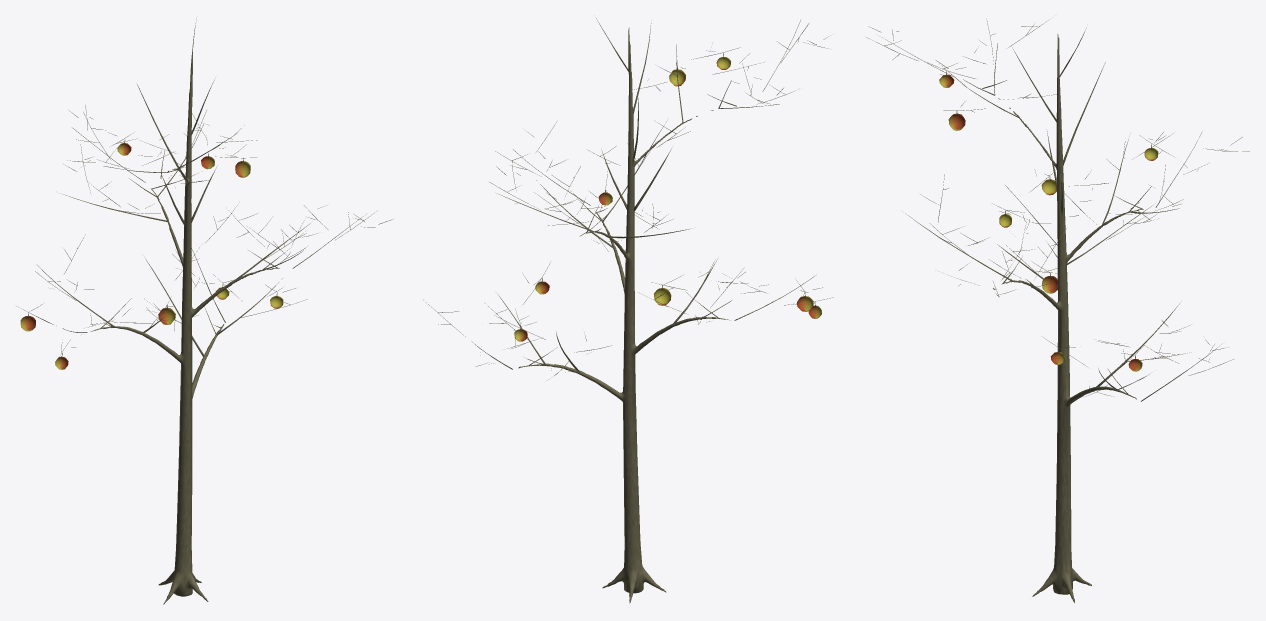
File: jablon_4.glb
The picture shows the model from 3 angles, left to right: view 1: azimuth 30°, elevation 25°; view 2: azimuth 150°, elevation 25°; view 3: azimuth 270°, elevation 25°; orthographic projection. The views are drawn at different scales.
Visible parts, largest first — view 1: 01_Young_trunk_and_branches.001, 02_Young_twigs.001, 05_Apples.001; view 2: 01_Young_trunk_and_branches.001, 02_Young_twigs.001, 05_Apples.001; view 3: 01_Young_trunk_and_branches.001, 02_Young_twigs.001, 05_Apples.001.
Boxes of the visible parts, x1,y1,x2,y2 form: 01_Young_trunk_and_branches.001: (81,49,279,604); 02_Young_twigs.001: (19,19,392,356); 05_Apples.001: (20,143,283,369); 01_Young_trunk_and_branches.001: (518,27,729,603); 02_Young_twigs.001: (423,18,833,379); 05_Apples.001: (514,57,821,341); 01_Young_trunk_and_branches.001: (998,34,1143,602); 02_Young_twigs.001: (866,19,1249,401); 05_Apples.001: (939,74,1158,371).
Size of what is drawn, in the model's own units: 1.52 by 2.44 by 1.47.
3 materials, 2 textured.
